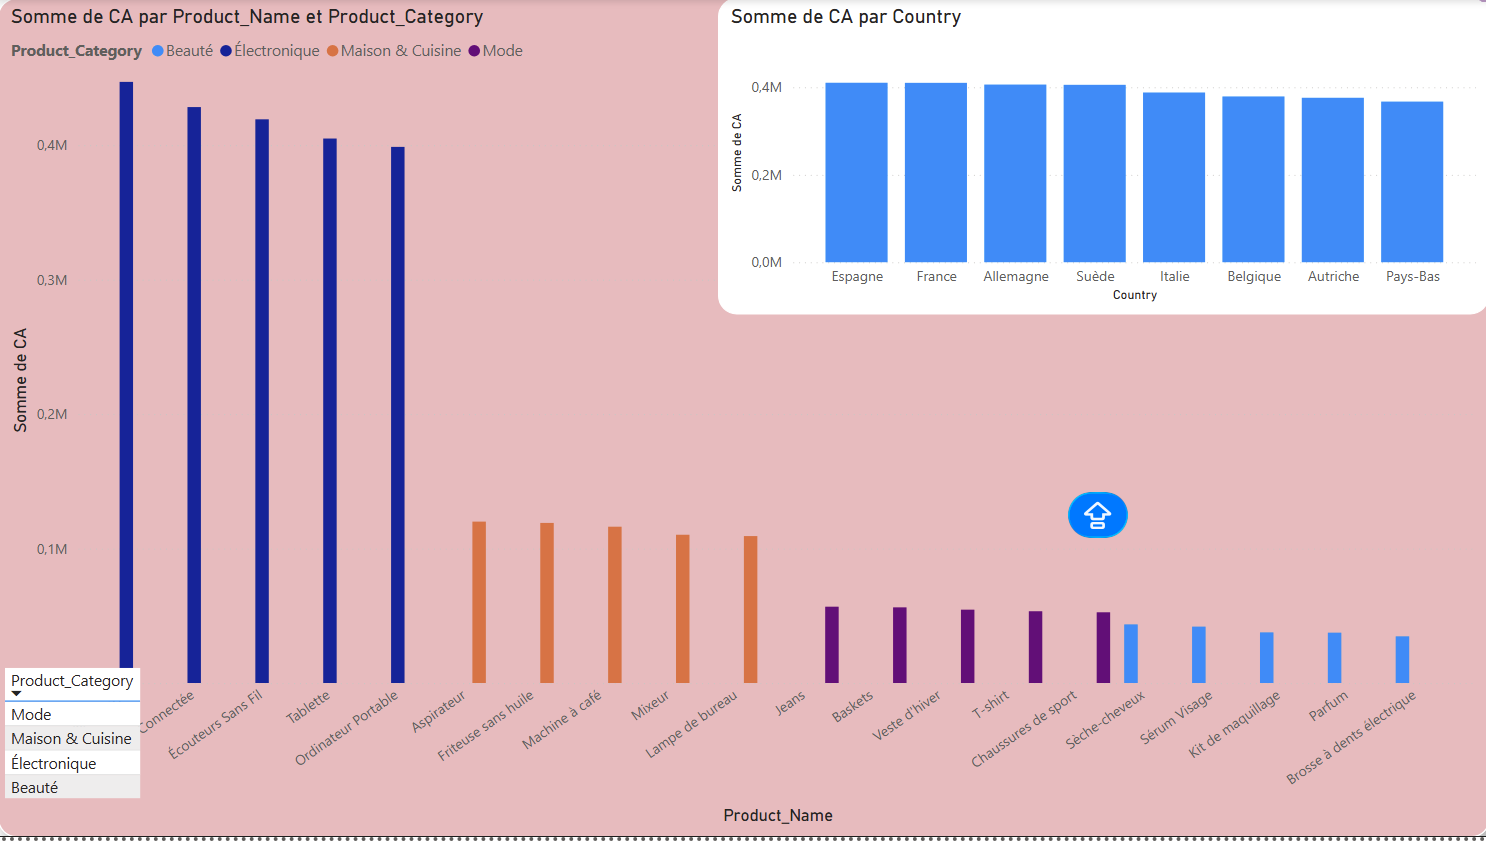

The page's visual inventory and layout, read from the dashboard file:
{"tool":"powerbi","page":{"name":"Page 1","canvas":[1280,720],"ordinal":0},"visuals":[{"type":"clusteredColumnChart","fields":{"Category":["europe_sales_data.Product_Name"],"Y":["Sum(europe_sales_data.CA)"],"Series":["europe_sales_data.Product_Category"]},"box":[0,0,1280,720],"z":0},{"type":"lineClusteredColumnComboChart","fields":{"Y":["Sum(europe_sales_data.CA)"],"Category":["europe_sales_data.Country"]},"box":[618.3,0,661.7,271.7],"z":1000},{"type":"tableEx","fields":{"Values":["europe_sales_data.Product_Category"]},"box":[0,570,1280,150],"z":2000}]}

Visuals, with their boxes in screenshot pixels (x1, y1, x2, y2), scaled from the page's 1280x720 canvas onto the 1486x842 screenshot:
clusteredColumnChart - europe_sales_data.Product_Name x Sum(europe_sales_data.CA): [left=0, top=0, right=1485, bottom=841]
lineClusteredColumnComboChart - Sum(europe_sales_data.CA) x europe_sales_data.Country: [left=718, top=0, right=1485, bottom=318]
tableEx - europe_sales_data.Product_Category: [left=0, top=667, right=1485, bottom=841]
